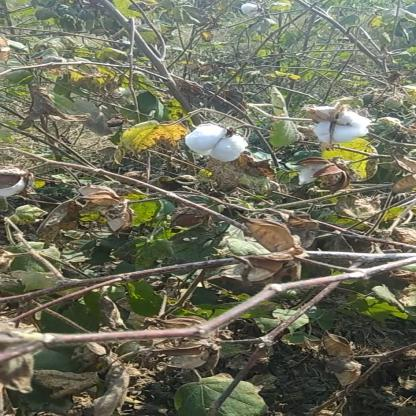cotton_ready: (146, 113, 284, 166), (290, 95, 377, 157)
